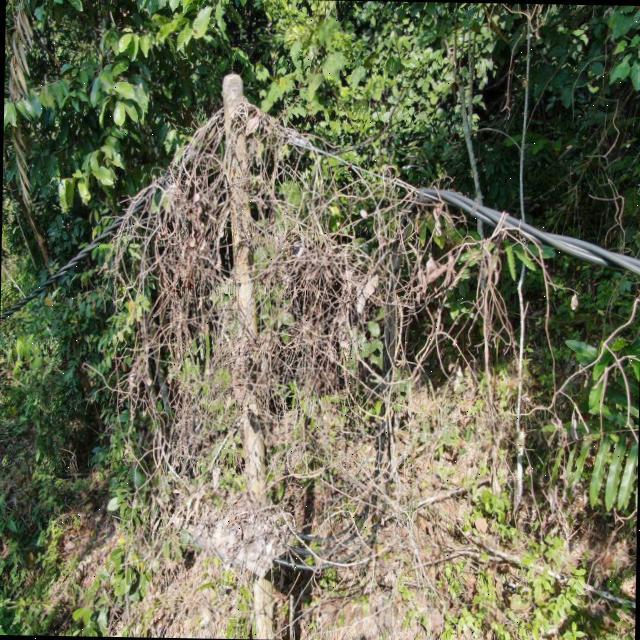critical vegetation: (63, 88, 524, 585)
